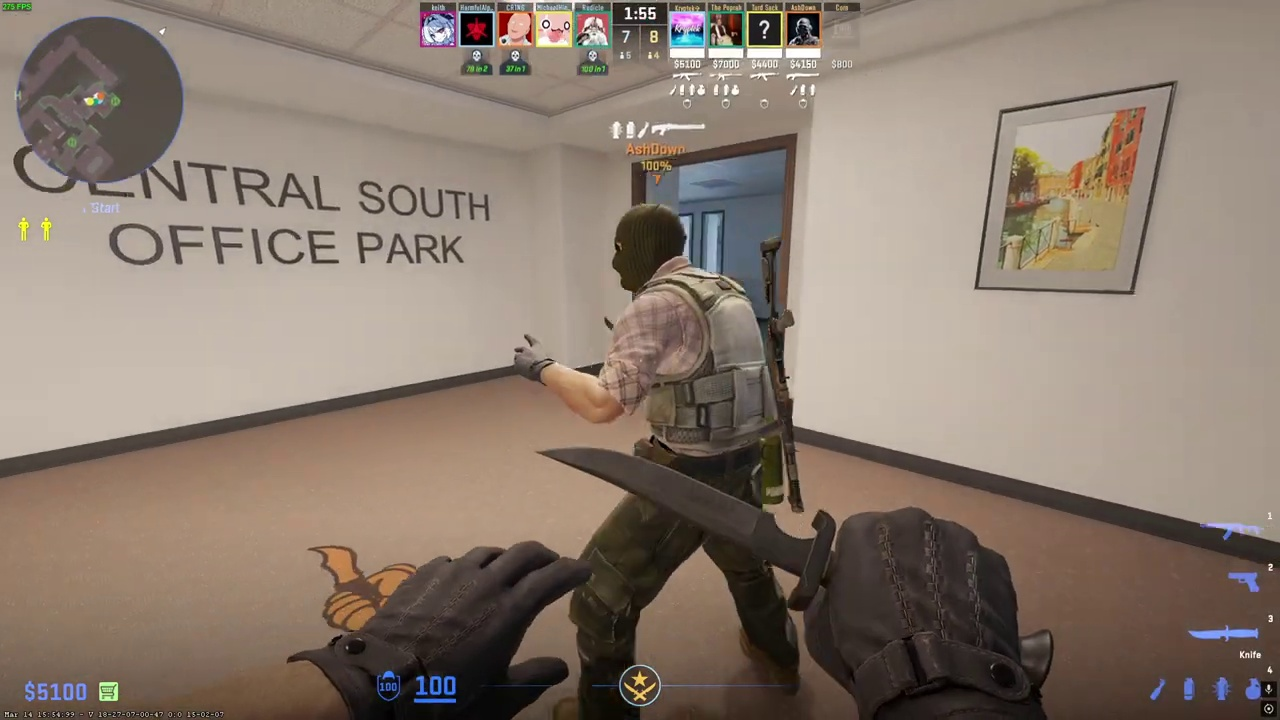Terrorist: (571, 203, 802, 718)
